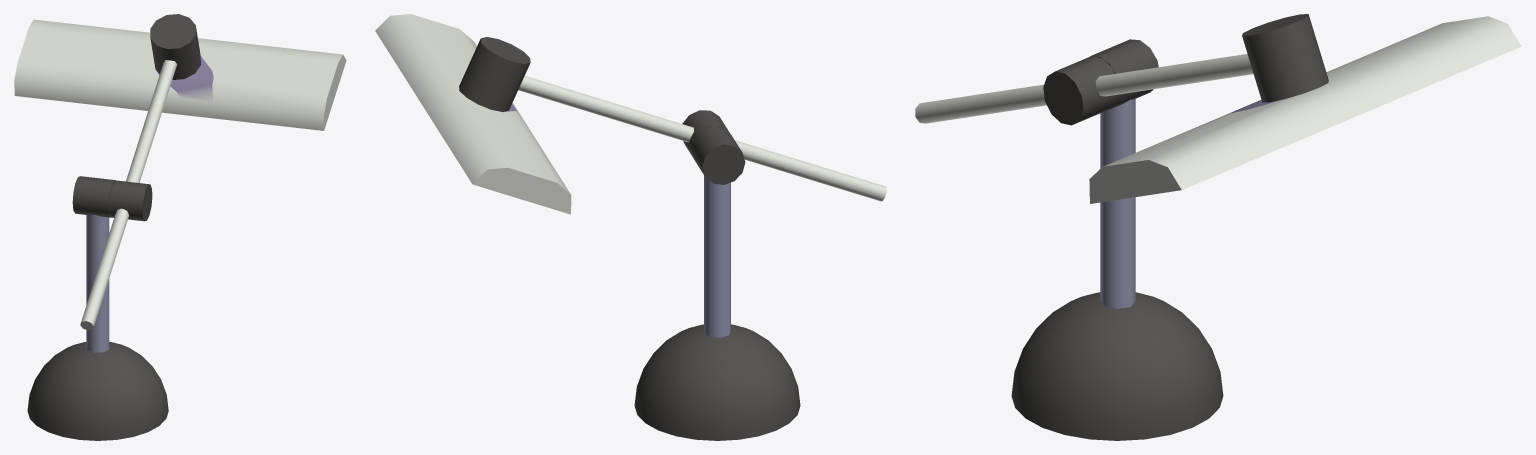
3 renders of one model, left to right at view 1: azimuth 30°, elevation 25°; view 2: azimuth 150°, elevation 25°; view 3: azimuth 270°, elevation 25°, orthographic. The views are drawn at different scales.
Parts seen in each view (by area): view 1: Joint_0_Object_1, Joint_0_Object_0; view 2: Joint_0_Object_1, Joint_0_Object_0; view 3: Joint_0_Object_0, Joint_0_Object_1.
Part boxes in pixels (left/top/right/bottom): Joint_0_Object_1: left=14, top=19, right=346, bottom=352; Joint_0_Object_0: left=27, top=14, right=200, bottom=440; Joint_0_Object_1: left=375, top=14, right=886, bottom=337; Joint_0_Object_0: left=459, top=37, right=800, bottom=440; Joint_0_Object_0: left=1011, top=14, right=1328, bottom=440; Joint_0_Object_1: left=915, top=16, right=1521, bottom=308.
Bounding box in the file's own units: 1278 × 1111 × 1278.
